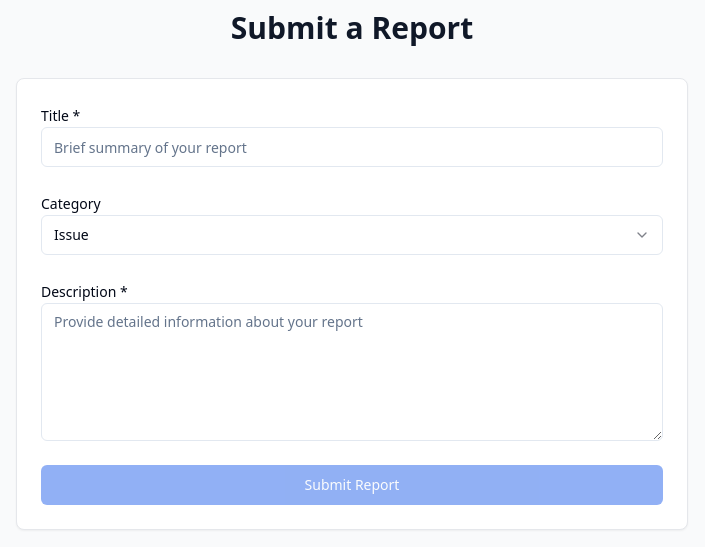
Scenario: ReportForm › when magic link is valid › shows success message after submission
In the field labelled "Title *": (352, 147) top-left (41, 127), bottom-right (663, 167), type "My Report Title"
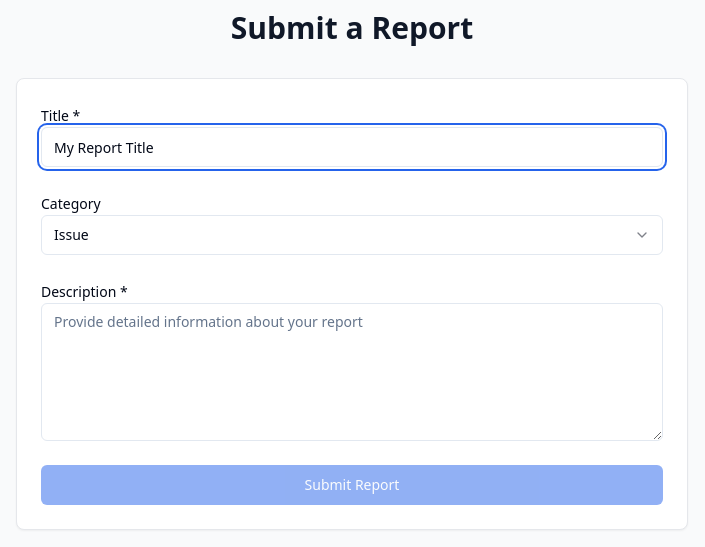
In the text box labelled "Description *": (352, 372) top-left (41, 303), bottom-right (663, 441), type "My report description"
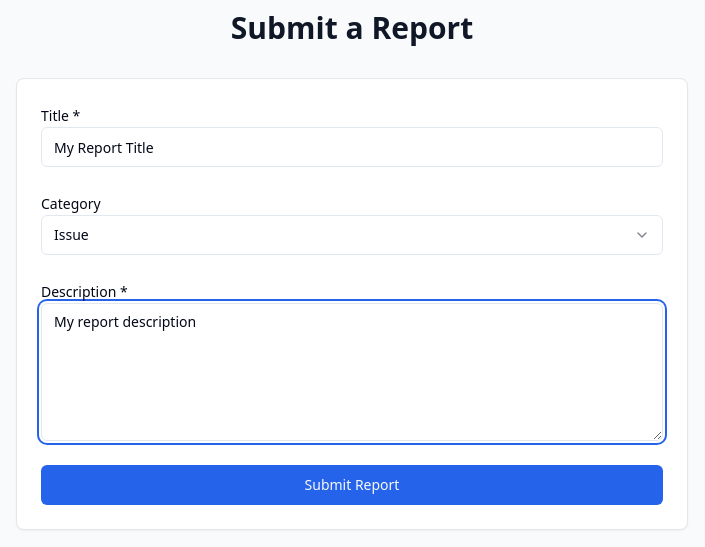
Click the button "Submit Report": (352, 485) top-left (41, 465), bottom-right (663, 505)
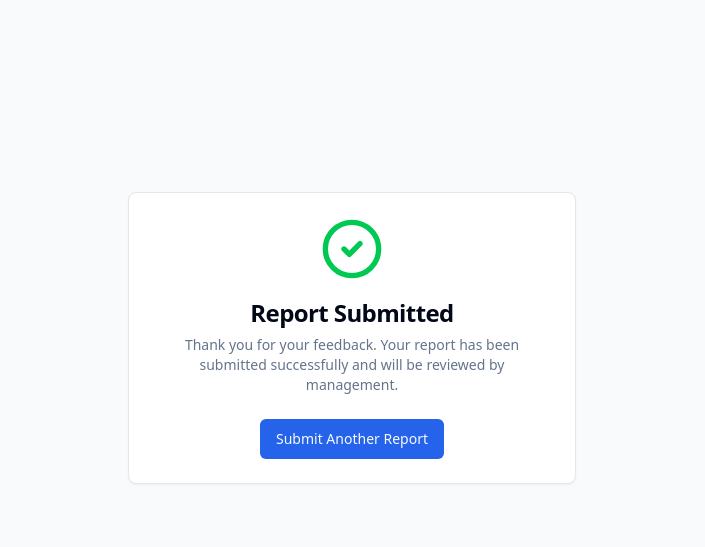
Check: the heading "Report Submitted" is shown, box top-left (250, 296), bottom-right (454, 329)
Check: the text "Thank you for your feedback" is shown, box top-left (185, 335), bottom-right (519, 394)
